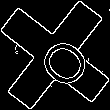O_NW: (21, 22, 89, 88)
